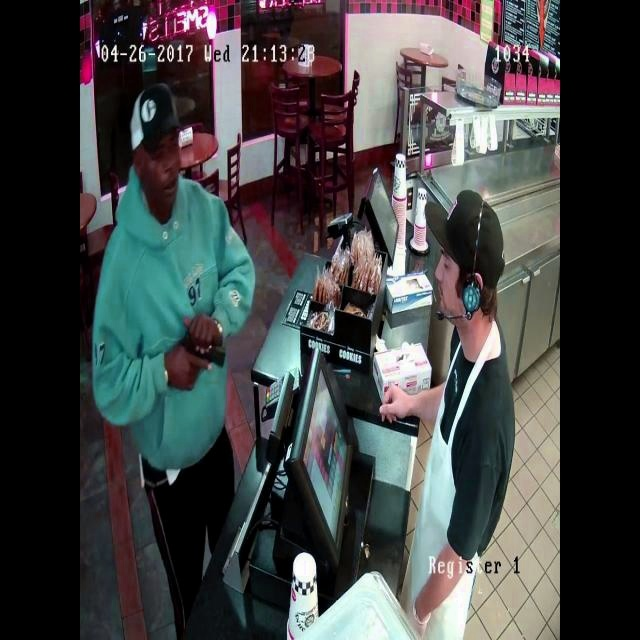gun: (171, 310, 234, 374)
